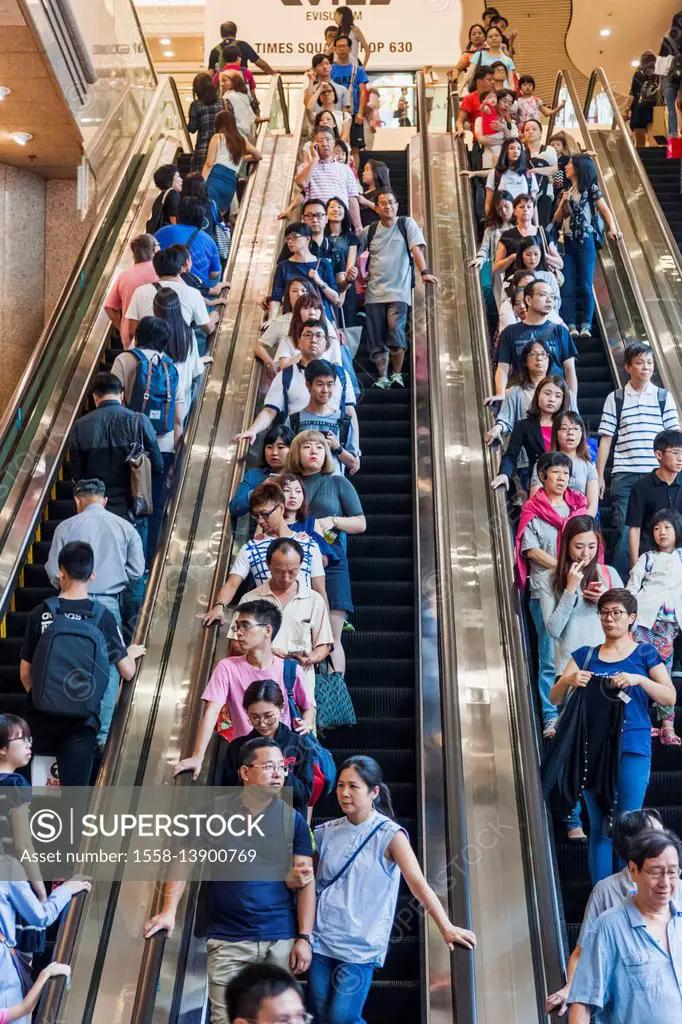Shorts: (363, 291, 406, 353), (343, 117, 366, 149)
jacket: (497, 414, 578, 482)
long sleeve shirt: (59, 399, 171, 509), (48, 505, 148, 598), (183, 94, 232, 164)
short sleeve shirt: (564, 892, 682, 1024), (230, 584, 336, 703), (22, 594, 128, 713), (199, 653, 317, 757), (572, 643, 669, 752), (596, 376, 682, 478), (109, 347, 184, 454), (276, 472, 366, 550), (123, 279, 209, 358), (357, 211, 428, 304), (101, 264, 175, 352), (264, 364, 356, 430), (494, 320, 576, 393), (282, 403, 363, 476), (626, 468, 682, 553), (152, 225, 221, 289), (295, 155, 360, 217), (557, 178, 604, 246), (322, 62, 369, 115), (485, 168, 539, 209), (469, 48, 516, 90), (208, 37, 260, 73), (148, 188, 184, 232), (459, 91, 487, 139), (512, 93, 544, 125)
skirt: (203, 164, 237, 213)
sweater: (536, 560, 629, 679)
trousers: (307, 952, 374, 1024), (555, 229, 600, 327)
vest: (312, 809, 413, 973), (215, 130, 243, 171)
